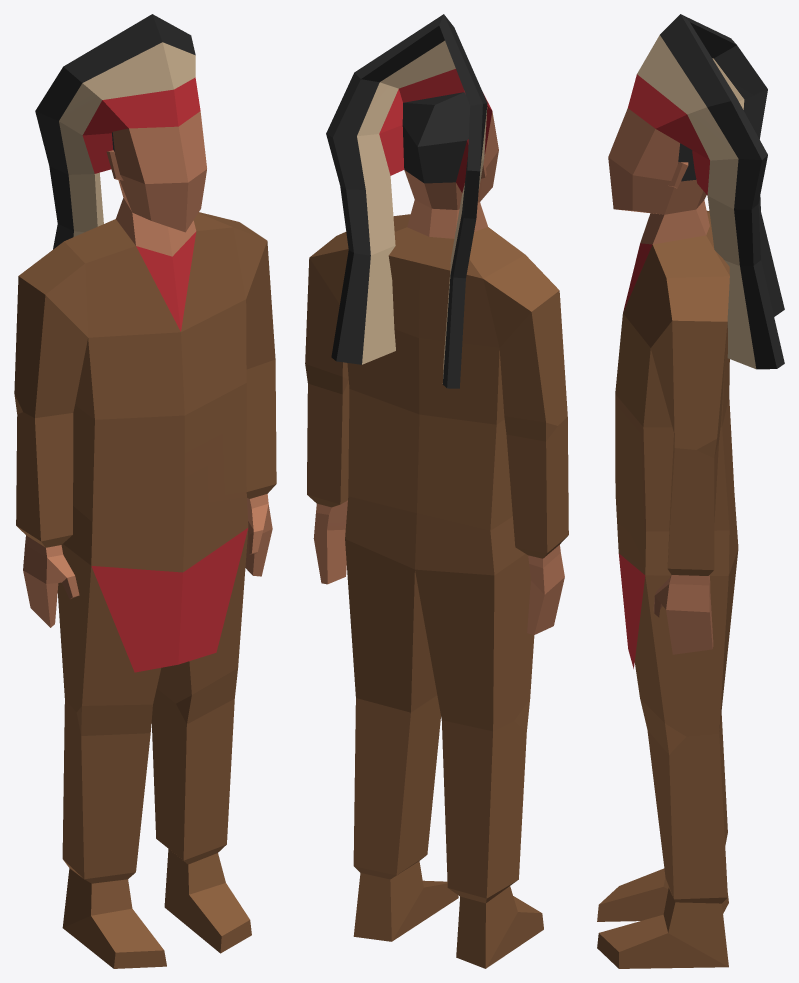
File: man-native.glb
3 views of the same model, side by side, from view 1: azimuth 30°, elevation 25°; view 2: azimuth 150°, elevation 25°; view 3: azimuth 270°, elevation 25° (orthographic).
Visible parts, largest first — view 1: man-native; view 2: man-native; view 3: man-native.
Boxes of the visible parts, bbox=[...] form: man-native: bbox=[14, 14, 276, 968]; man-native: bbox=[305, 14, 568, 968]; man-native: bbox=[597, 14, 784, 968].
Size of the model in its own units: 0.5458 by 1.97 by 0.3642.
Materials: 1 (1 with a texture image).
